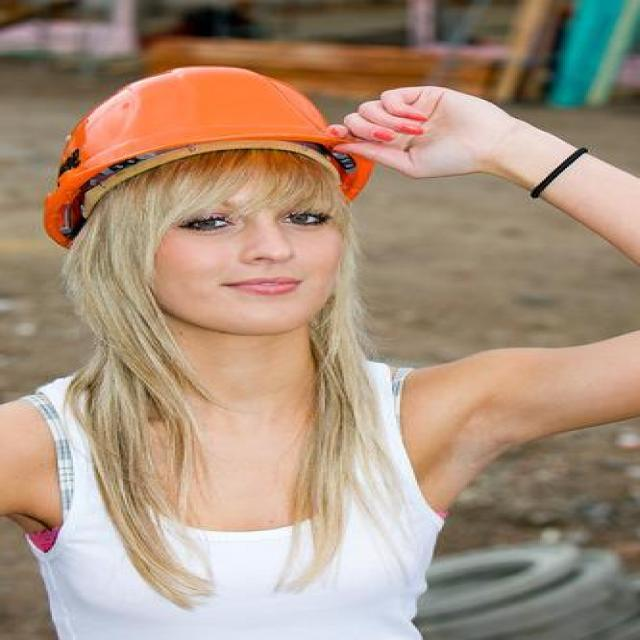safety_helmet: (44, 59, 372, 204)
